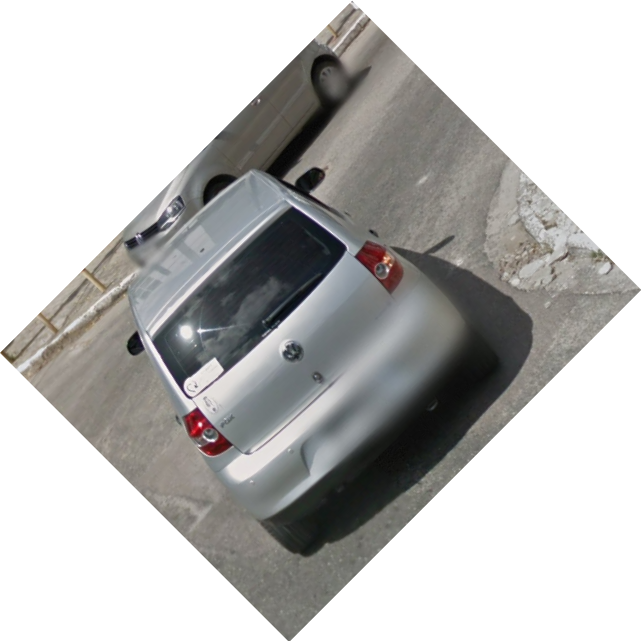car: (119, 163, 513, 578)
